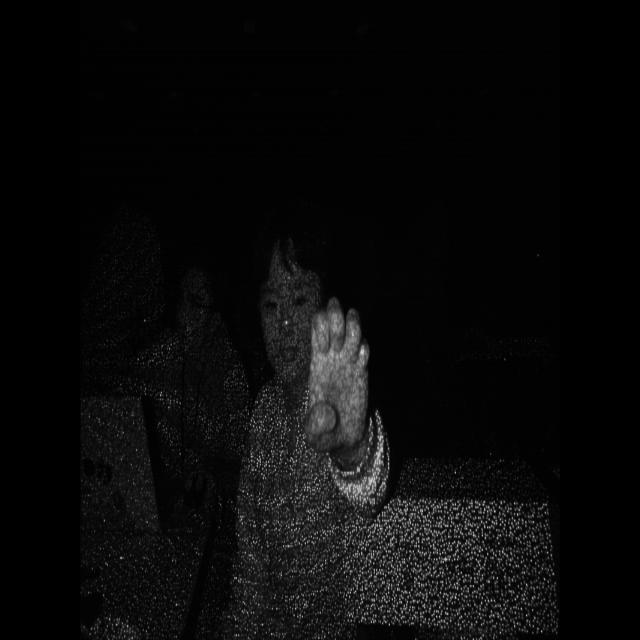E: (296, 293, 382, 472)
